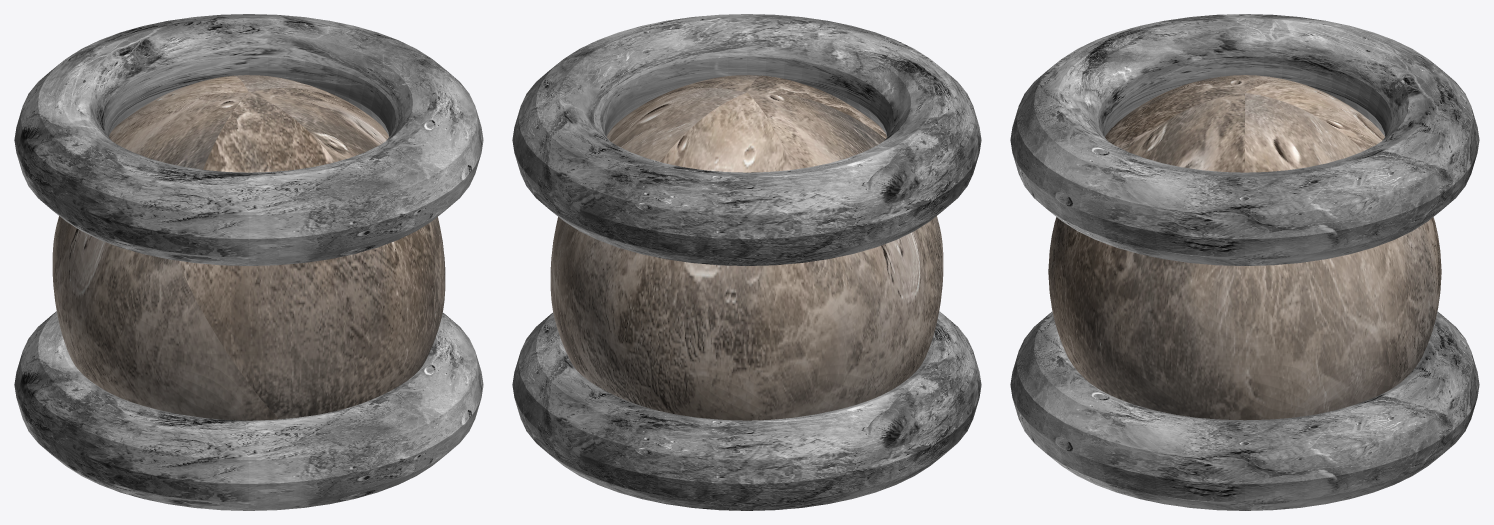
The model's file is ceres.fbx.
3 views of the same model, side by side, from view 1: azimuth 30°, elevation 25°; view 2: azimuth 150°, elevation 25°; view 3: azimuth 270°, elevation 25° (orthographic).
Parts seen in each view (by area): view 1: Icosphere, Torus, Torus.001; view 2: Icosphere, Torus, Torus.001; view 3: Icosphere, Torus, Torus.001.
Boxes of the visible parts, x1,y1,x2,y2 form: Icosphere: [52, 75, 445, 420]; Torus: [14, 14, 483, 265]; Torus.001: [14, 311, 483, 510]; Icosphere: [550, 75, 943, 420]; Torus: [512, 14, 981, 265]; Torus.001: [512, 311, 981, 510]; Icosphere: [1048, 75, 1441, 420]; Torus: [1010, 14, 1479, 265]; Torus.001: [1010, 311, 1479, 510].
Bounding box in the file's own units: 587 × 495 × 587.
3 materials, 3 textured.
